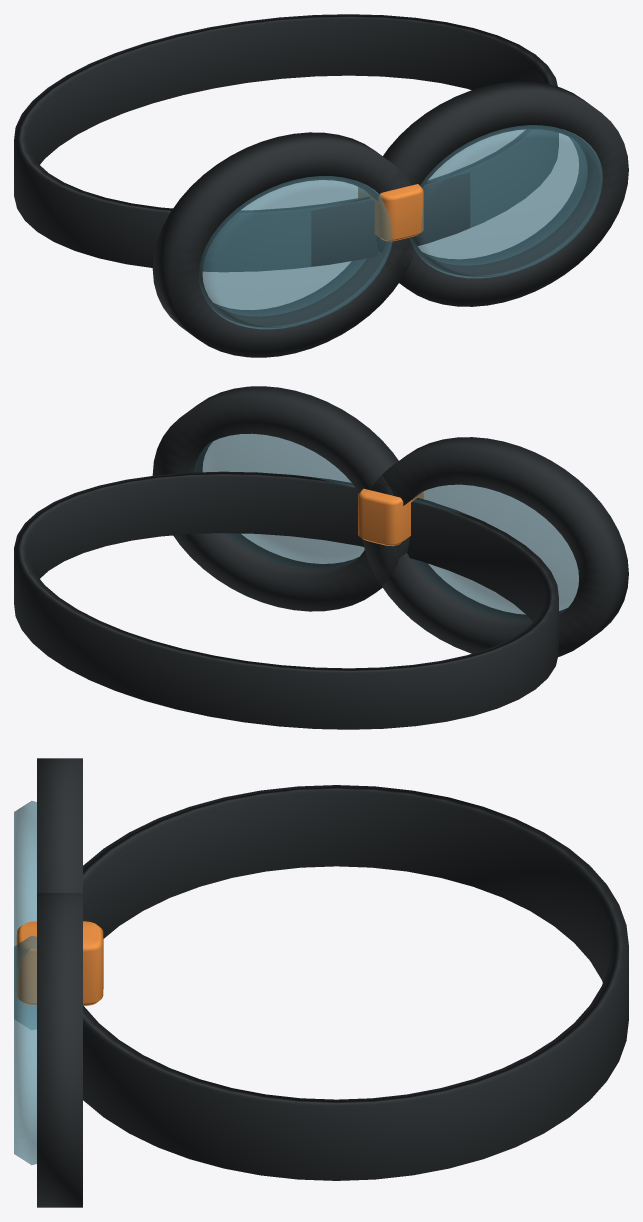
File: 06-goggles.glb
The picture shows the model from 3 angles, top to bottom: view 1: azimuth 30°, elevation 25°; view 2: azimuth 150°, elevation 25°; view 3: azimuth 270°, elevation 25°; orthographic projection. The views are drawn at different scales.
Parts seen in each view (by area): view 1: 06-goggles; view 2: 06-goggles; view 3: 06-goggles.
Boxes of the visible parts, x1=… form: 06-goggles: x1=14, y1=14, x2=628, y2=357; 06-goggles: x1=14, y1=386, x2=628, y2=729; 06-goggles: x1=14, y1=758, x2=628, y2=1207.
Bounding box in the file's own units: 0.215 × 0.084 × 0.1735.
